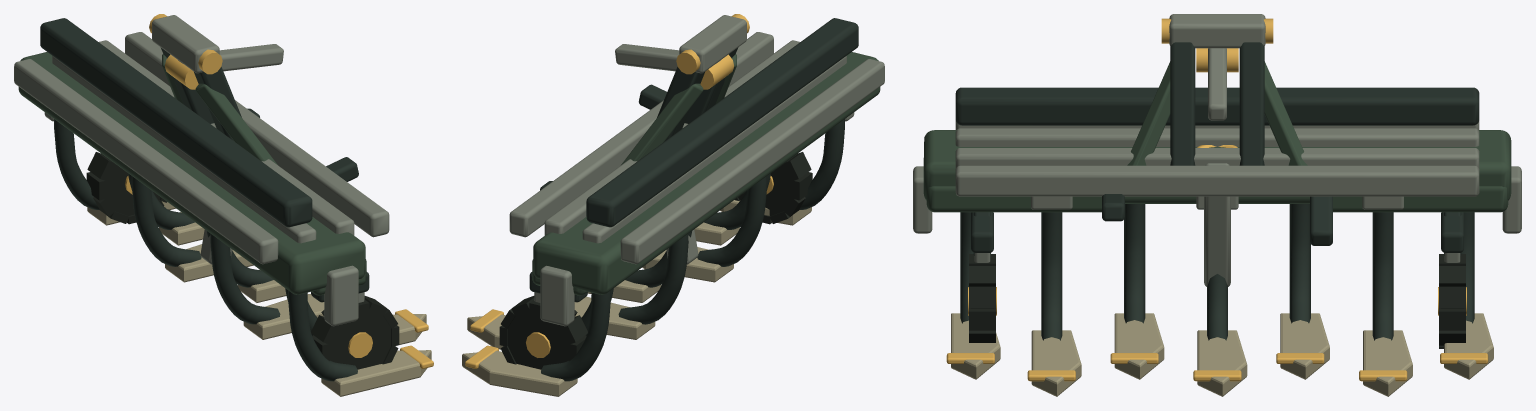
The model's file is cultivator.compact.m1.lod1.glb.
3 views of the same model, side by side, from view 1: azimuth 30°, elevation 25°; view 2: azimuth 150°, elevation 25°; view 3: azimuth 270°, elevation 25° (orthographic). The views are drawn at different scales.
Parts seen in each view (by area): view 1: cultivatorToolbar, toolbarCrossRail1, cultivatorFrame, toolbarCrossRail4, toolbarCrossRail2, gaugeWheelRight.tire, tine7, sweep7, tine3, tine5, hitchMastCap, toolbarCrossRail3 (+21 smaller); view 2: cultivatorToolbar, toolbarCrossRail1, cultivatorFrame, toolbarCrossRail4, sweep1, toolbarCrossRail2, gaugeWheelLeft.tire, tine1, tine3, tine5, hitchMastCap, toolbarCrossRail3 (+22 smaller); view 3: toolbarCrossRail4, cultivatorToolbar, toolbarCrossRail2, toolbarCrossRail3, cultivatorFrame, hitchMastLeft, hitchMastRight, hitchMastCap, tine2, tine6, cultivatorWingLeft, cultivatorWingRight (+32 smaller).
Boxes of the visible parts, <box> form: cultivatorToolbar: <box>40,18,312,227</box>; toolbarCrossRail1: <box>14,59,278,264</box>; cultivatorFrame: <box>18,52,365,294</box>; toolbarCrossRail4: <box>125,32,389,237</box>; toolbarCrossRail2: <box>52,56,316,243</box>; gaugeWheelRight.tire: <box>329,310,391,369</box>; tine7: <box>288,290,357,381</box>; sweep7: <box>321,350,431,396</box>; tine3: <box>131,176,201,266</box>; tine5: <box>210,233,280,324</box>; hitchMastCap: <box>152,15,219,73</box>; toolbarCrossRail3: <box>99,40,354,235</box>; cultivatorToolbar: <box>586,18,858,227</box>; toolbarCrossRail1: <box>620,59,884,264</box>; cultivatorFrame: <box>533,52,880,294</box>; toolbarCrossRail4: <box>509,32,773,237</box>; sweep1: <box>462,350,577,396</box>; toolbarCrossRail2: <box>582,56,846,243</box>; gaugeWheelLeft.tire: <box>507,310,569,369</box>; tine1: <box>541,291,610,381</box>; tine3: <box>618,234,688,324</box>; tine5: <box>697,176,767,266</box>; hitchMastCap: <box>679,15,746,73</box>; toolbarCrossRail3: <box>544,40,799,235</box>; toolbarCrossRail4: <box>955,165,1479,196</box>; cultivatorToolbar: <box>955,87,1479,125</box>; toolbarCrossRail2: <box>955,128,1479,146</box>; toolbarCrossRail3: <box>955,148,1479,168</box>; cultivatorFrame: <box>923,130,1511,203</box>; hitchMastLeft: <box>1239,42,1264,165</box>; hitchMastRight: <box>1170,42,1195,165</box>; hitchMastCap: <box>1169,14,1265,48</box>; tine2: <box>1372,212,1393,340</box>; tine6: <box>1041,212,1062,340</box>; cultivatorWingLeft: <box>1333,186,1508,212</box>; cultivatorWingRight: <box>926,186,1101,212</box>.
Size of what is drawn, in the model's own units: 1.35 by 1.69 by 3.16.
